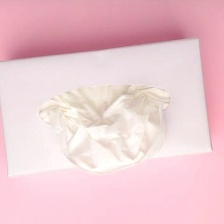book: (0, 31, 219, 183)
tissue: (34, 77, 176, 180)
